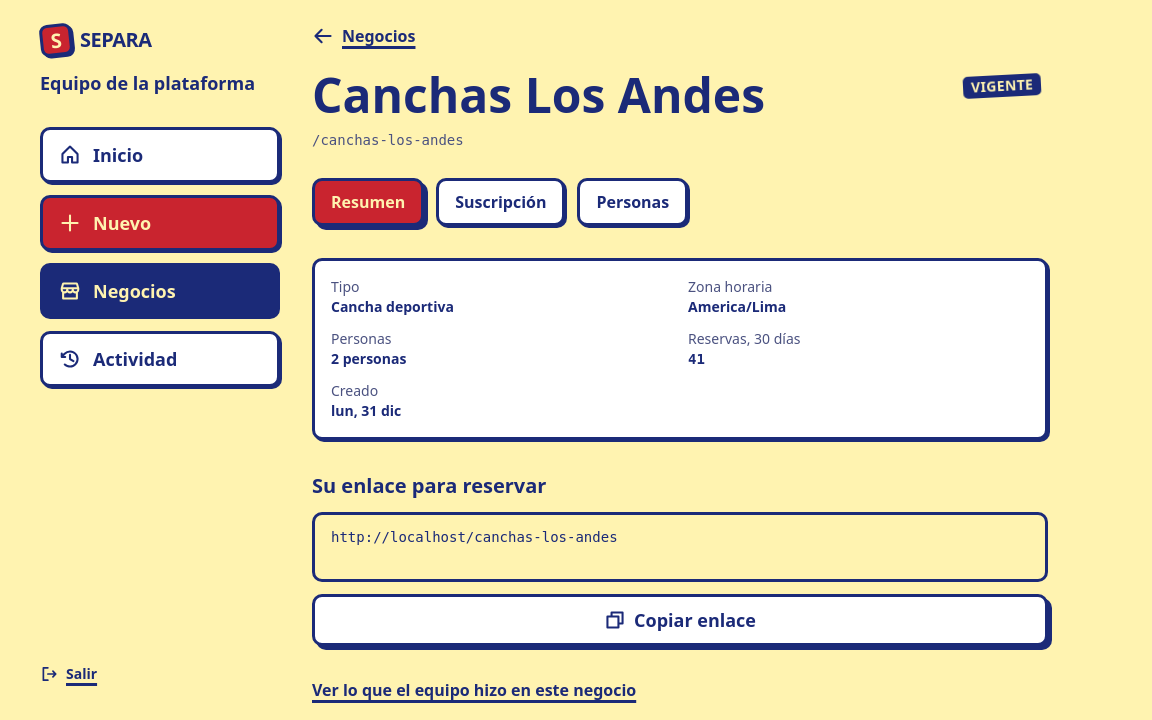
a business, for the team › shows the subscription section when its tab is chosen
The image size is (1152, 720).
Click the tab "Suscripción" at coordinates (501, 202), box x1=436 y1=178 x2=566 y2=226
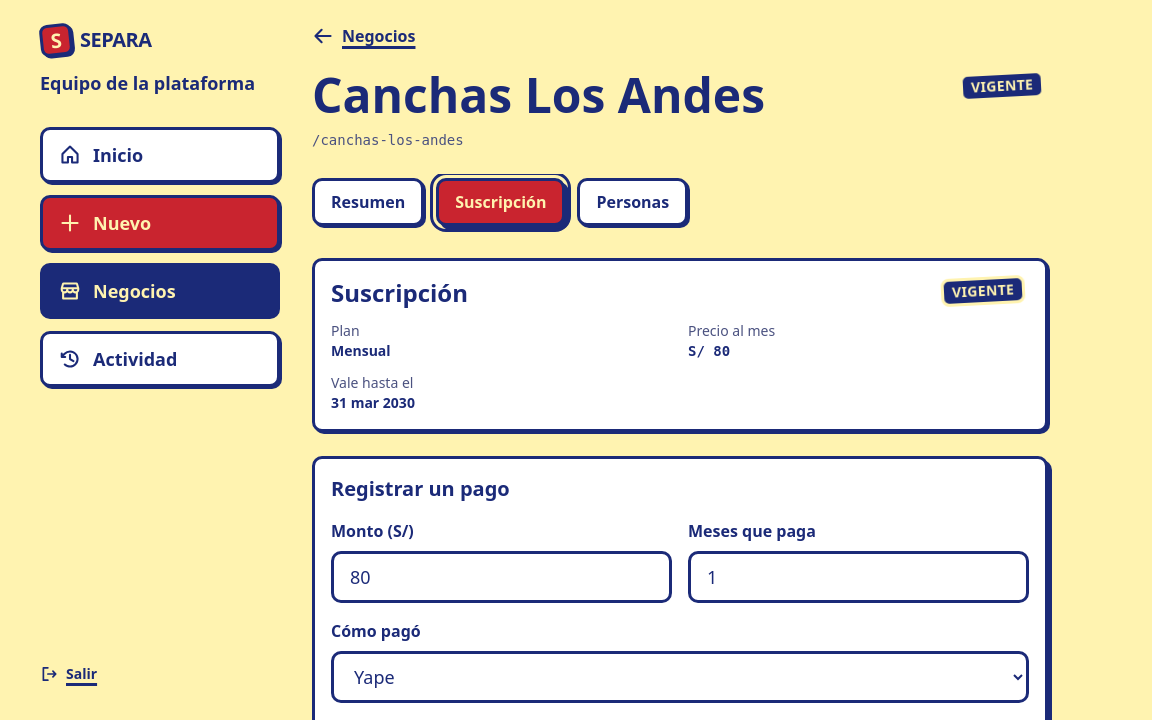
Check: the heading "Suscripción" is shown, box x1=331 y1=277 x2=468 y2=309
